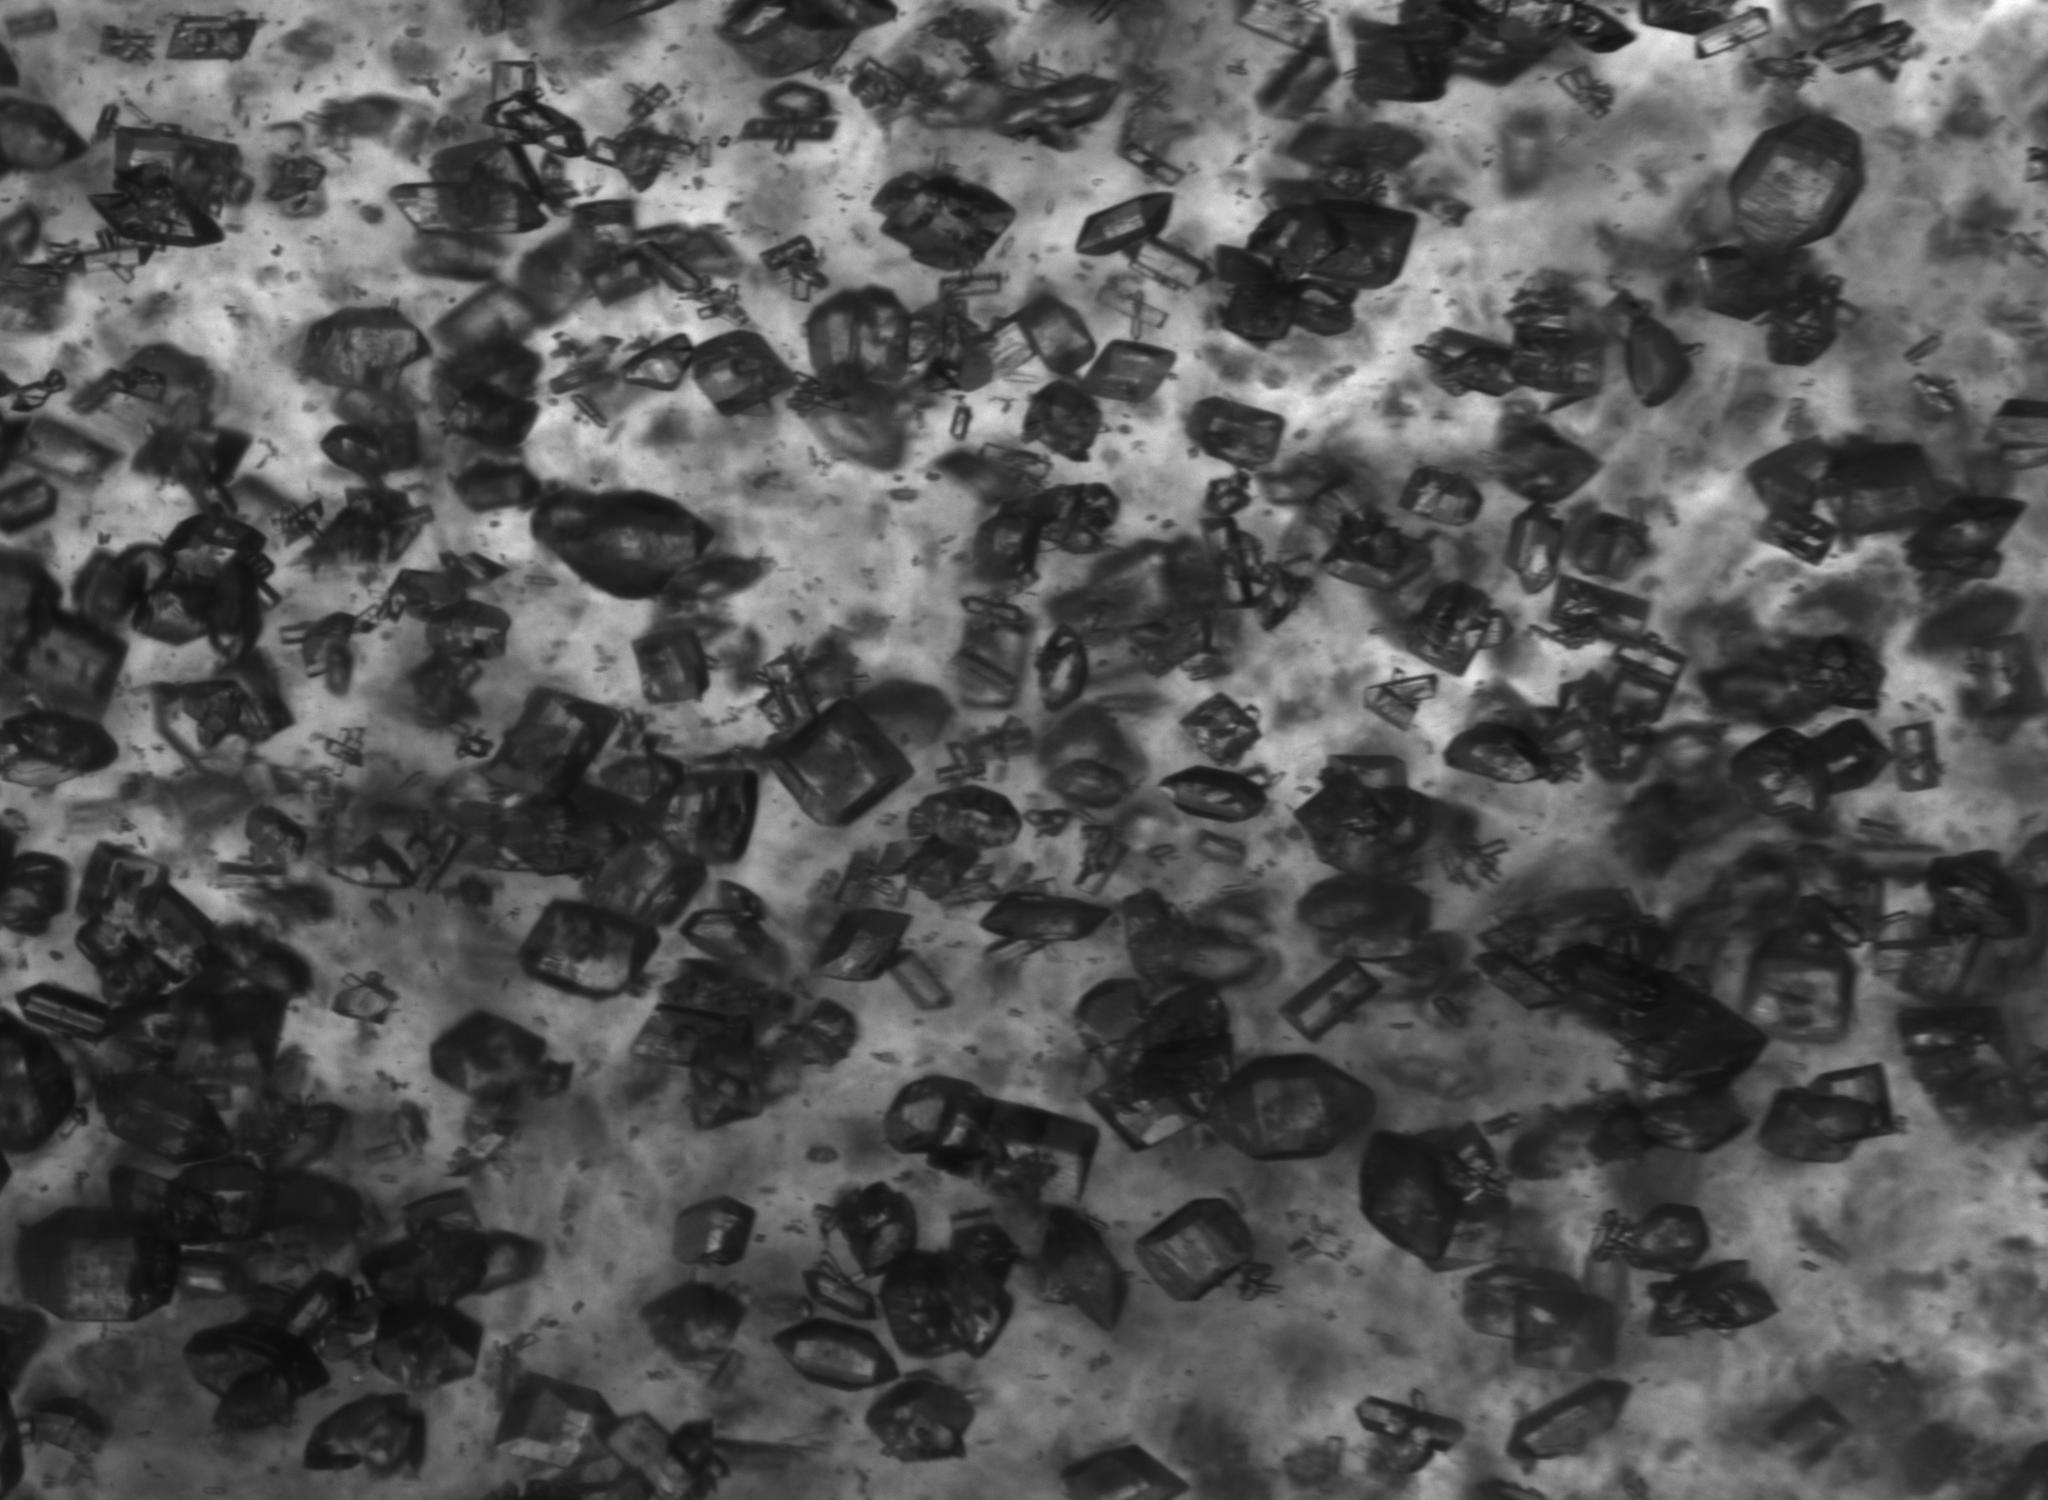crystal: (1476, 889, 1767, 1094), (1216, 197, 1417, 340), (884, 1077, 1099, 1204), (1073, 978, 1234, 1145), (1873, 853, 2031, 1002), (116, 512, 277, 659), (1358, 1123, 1511, 1271), (1296, 754, 1469, 881), (358, 1188, 542, 1308), (76, 845, 213, 1004), (878, 1207, 1021, 1358), (531, 487, 716, 600), (1394, 0, 1636, 83), (14, 1207, 181, 1323), (1727, 113, 1865, 251), (763, 698, 913, 826), (91, 122, 242, 247), (1207, 1053, 1375, 1161), (1899, 1002, 2034, 1134), (186, 1312, 329, 1430), (149, 654, 291, 770), (1461, 1265, 1617, 1370), (631, 1005, 765, 1128), (110, 1155, 277, 1252), (1738, 905, 1856, 1042), (390, 135, 552, 234), (479, 687, 619, 797), (973, 484, 1119, 584), (873, 170, 1016, 270), (518, 899, 658, 999), (1760, 1063, 1897, 1163), (719, 0, 895, 76), (11, 601, 126, 719), (1822, 436, 1951, 536), (97, 1066, 227, 1163), (1134, 1198, 1255, 1301), (1032, 1206, 1127, 1330), (1297, 873, 1431, 961), (1205, 519, 1310, 630), (0, 1010, 78, 1155), (498, 1371, 614, 1468), (297, 305, 431, 390), (805, 286, 913, 390), (1509, 290, 1608, 402), (910, 305, 1035, 393), (585, 835, 706, 926), (364, 1300, 482, 1392), (304, 482, 431, 566), (1507, 1379, 1630, 1467), (604, 1413, 727, 1500), (429, 1010, 547, 1101), (1905, 496, 2024, 585), (132, 425, 248, 514), (814, 1182, 917, 1280), (1355, 1393, 1464, 1486), (304, 1393, 425, 1476), (1404, 582, 1509, 676), (0, 708, 118, 791), (658, 767, 758, 864), (867, 1373, 975, 1462), (1649, 1261, 1778, 1336), (1695, 245, 1821, 320), (277, 1271, 378, 1362), (1495, 417, 1600, 504), (774, 1317, 898, 1390), (1000, 73, 1123, 146), (1280, 956, 1385, 1040), (979, 891, 1111, 958), (692, 329, 793, 415), (572, 199, 655, 304), (1350, 21, 1452, 105), (641, 1282, 746, 1363), (1593, 1204, 1711, 1276), (1547, 574, 1655, 647), (584, 121, 695, 191), (1806, 5, 1914, 76), (1320, 514, 1423, 589), (1762, 274, 1844, 366), (1728, 729, 1821, 811), (1061, 1441, 1189, 1500), (1185, 396, 1285, 471), (908, 786, 1022, 851), (1010, 293, 1097, 377), (679, 881, 770, 962), (13, 229, 162, 277), (814, 908, 911, 981), (1635, 1091, 1747, 1153), (1417, 328, 1515, 398), (0, 94, 84, 175), (1620, 312, 1692, 407), (739, 81, 836, 151), (1746, 439, 1832, 517), (487, 91, 587, 157), (1021, 380, 1102, 461), (1808, 717, 1891, 797), (1076, 339, 1177, 404), (1444, 722, 1550, 783), (633, 620, 709, 705), (281, 611, 358, 694), (1075, 192, 1173, 256), (1159, 767, 1267, 822), (14, 981, 113, 1042), (1180, 694, 1261, 764), (674, 1196, 755, 1266), (595, 751, 684, 813), (898, 837, 979, 903), (428, 598, 510, 660), (1506, 504, 1563, 593), (453, 458, 542, 514), (328, 834, 413, 891), (377, 568, 467, 622), (1399, 466, 1482, 525), (803, 1258, 878, 1322), (442, 1117, 518, 1179), (1045, 759, 1134, 811), (755, 659, 816, 735), (760, 235, 828, 302), (402, 827, 467, 897), (1035, 625, 1089, 709), (1988, 398, 2048, 472), (243, 805, 307, 873), (165, 16, 262, 60), (320, 423, 393, 480), (1235, 0, 1326, 46), (1129, 237, 1208, 290), (1099, 282, 1169, 340), (639, 242, 711, 299), (1693, 6, 1771, 59), (1763, 511, 1841, 563), (1364, 674, 1437, 730), (620, 334, 693, 390), (1889, 721, 1943, 792), (1073, 821, 1127, 892), (889, 950, 952, 1010), (1612, 633, 1685, 686), (1604, 668, 1673, 724), (329, 970, 398, 1024), (0, 476, 59, 538), (1638, 0, 1735, 37), (176, 1249, 237, 1303), (975, 441, 1053, 482), (1553, 65, 1614, 118), (1119, 140, 1183, 186), (10, 369, 67, 415), (439, 550, 507, 589), (933, 743, 987, 784), (693, 283, 749, 323), (1205, 471, 1251, 517), (100, 24, 156, 62), (324, 727, 364, 779), (938, 270, 1003, 302), (1194, 829, 1248, 867), (490, 59, 539, 100), (628, 83, 671, 126), (960, 595, 1022, 624), (537, 1058, 574, 1102), (359, 1139, 412, 1164), (949, 401, 972, 441), (461, 735, 490, 760)
